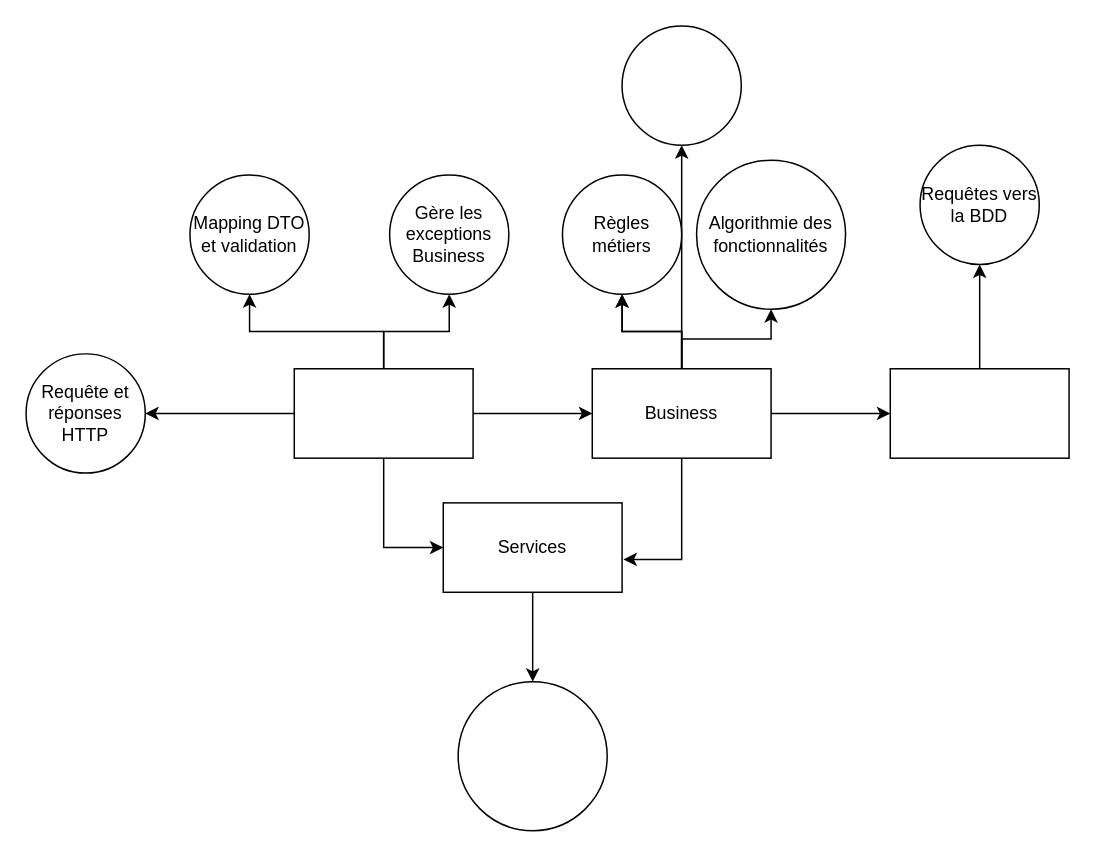
This 1095x857 diagram has some shape labels left out. Each missing label, with the box of its shape:
Contrôleurs: (293, 367, 473, 458)
Externaliser des logiques d'infrastructure: (457, 680, 607, 831)
Repositories: (889, 367, 1069, 458)
Throw des exeptions Business: (621, 25, 741, 145)
